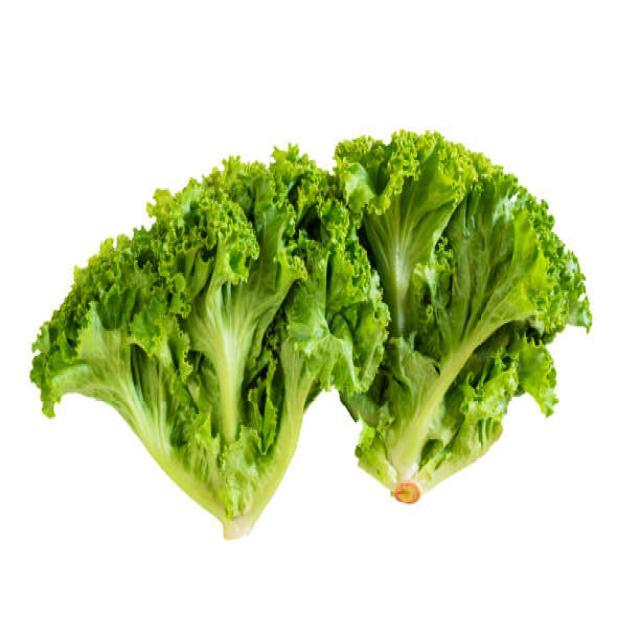Lettuce-Ready-to-Harvest: (29, 132, 333, 544), (296, 132, 595, 508)
